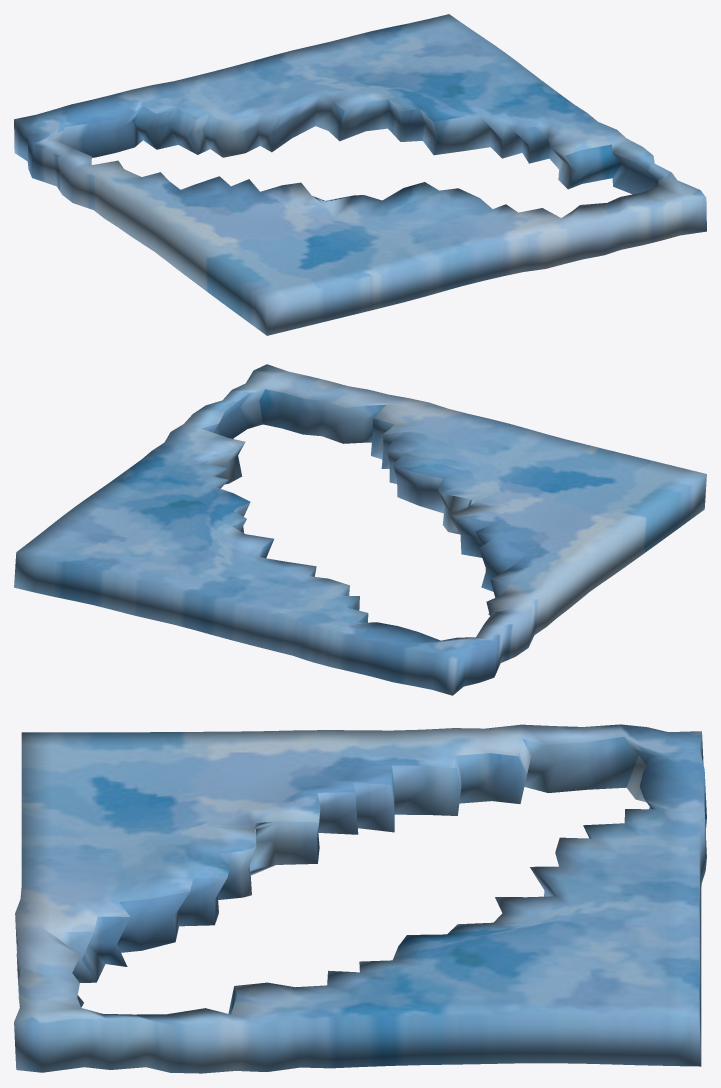
File: caveterrainhole.fbx
3 renders of one model, top to bottom at view 1: azimuth 30°, elevation 25°; view 2: azimuth 150°, elevation 25°; view 3: azimuth 270°, elevation 25°, orthographic. The views are drawn at different scales.
Parts seen in each view (by area): view 1: Plane; view 2: Plane; view 3: Plane.
Boxes of the visible parts, box(x1,y1,x2,y2) form: Plane: box(14, 14, 706, 335); Plane: box(14, 364, 706, 695); Plane: box(14, 724, 706, 1073).
Bounding box in the file's own units: 3571 × 353 × 3465.
